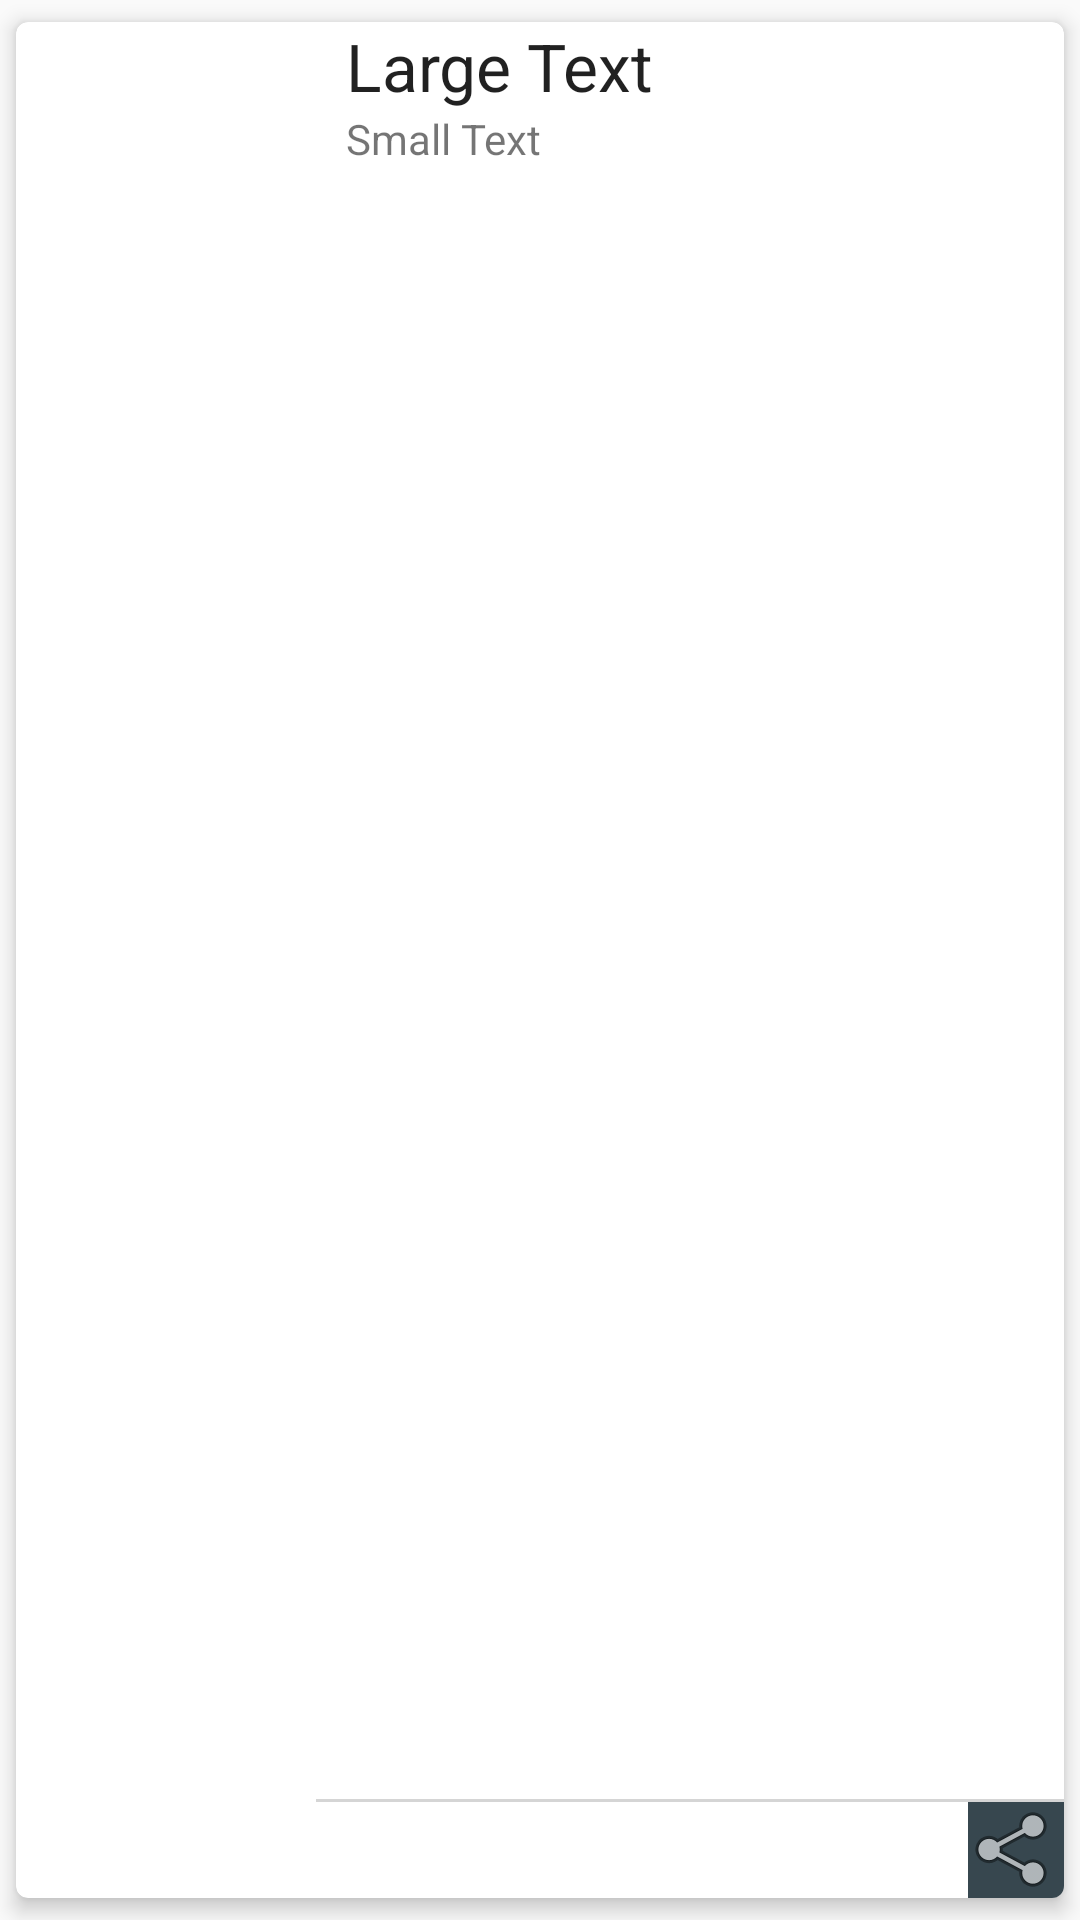

Icons on this 1080 × 1920 Android screen, each with the point to tap as (x=x, y=y):
share: (x=1016, y=1850)
